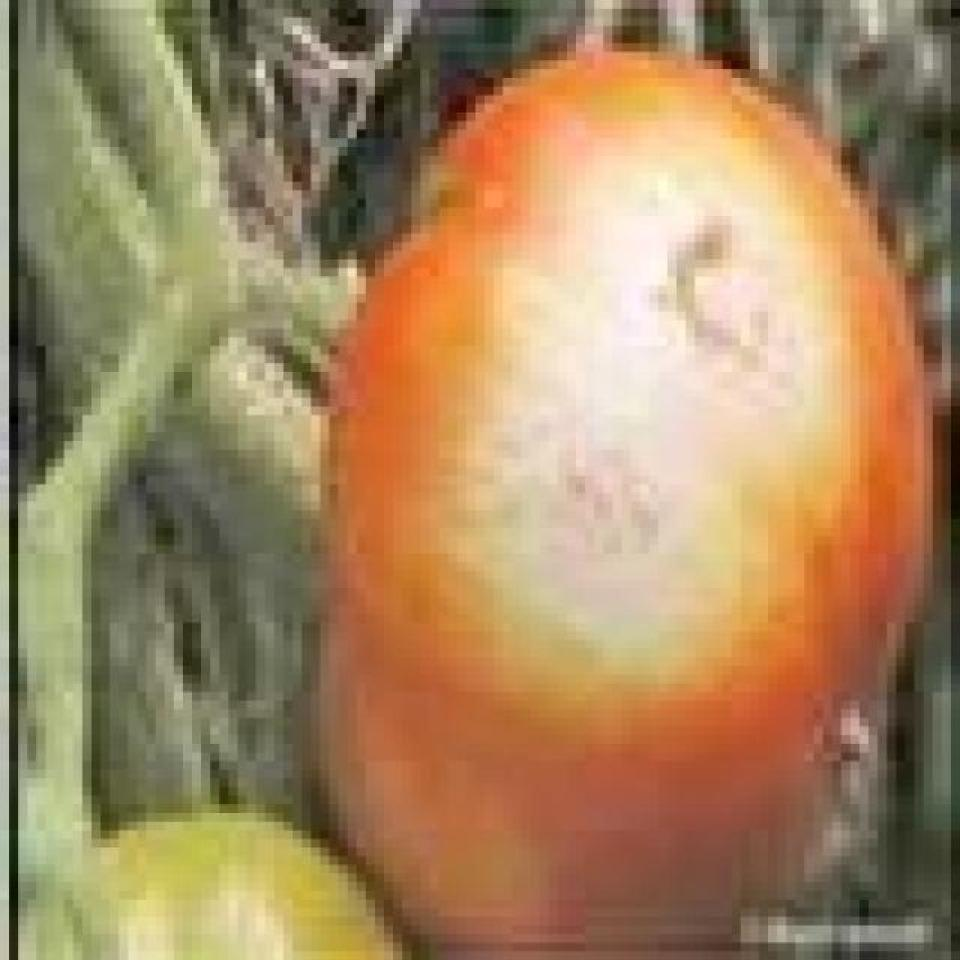Sunscald: (406, 90, 846, 705)
